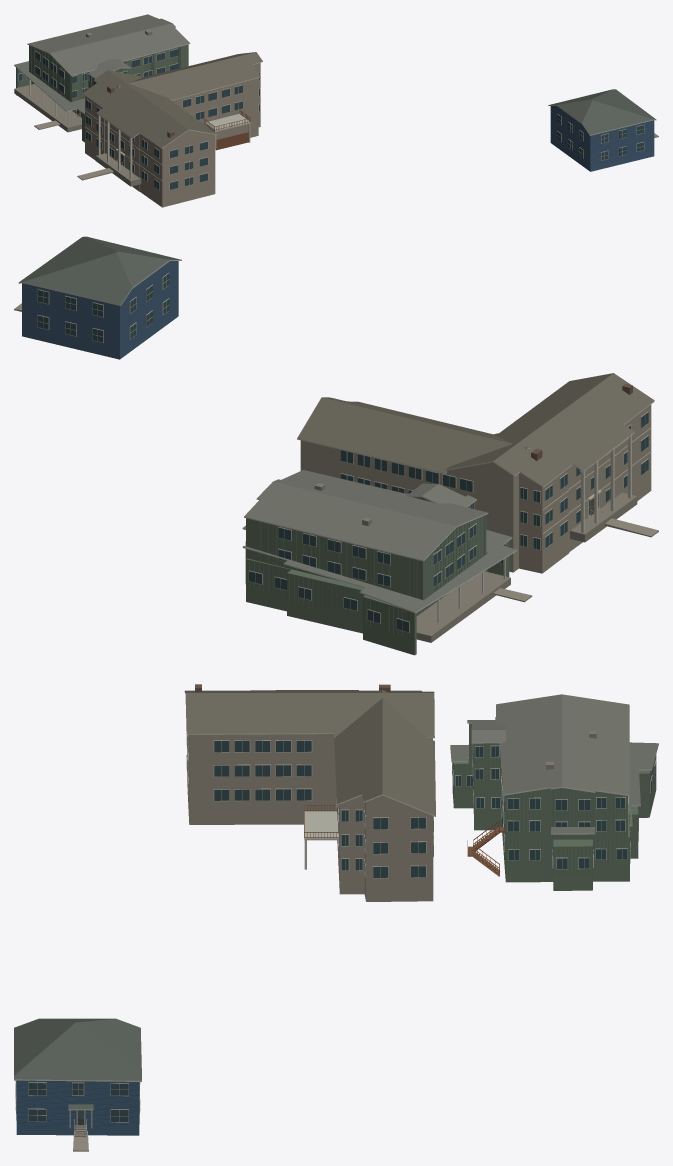
Rendered from site.glb.
The picture shows the model from 3 angles, top to bottom: view 1: azimuth 30°, elevation 25°; view 2: azimuth 150°, elevation 25°; view 3: azimuth 270°, elevation 25°; orthographic projection. The views are drawn at different scales.
Visible parts, largest first — view 1: roof-b048deca, roof-82ccbe9b, roof-e0385ede, south-university-entry-walks; view 2: roof-b048deca, roof-82ccbe9b, roof-e0385ede, south-university-entry-walks; view 3: roof-b048deca, roof-82ccbe9b, roof-e0385ede.
Part boxes in pixels (box(x1,y1,x2,y2)): roof-b048deca: box(82, 52, 262, 207); roof-82ccbe9b: box(14, 14, 190, 142); roof-e0385ede: box(548, 89, 656, 171); south-university-entry-walks: box(14, 84, 658, 186); roof-b048deca: box(297, 373, 654, 573); roof-82ccbe9b: box(242, 470, 517, 655); roof-e0385ede: box(18, 236, 181, 359); south-university-entry-walks: box(14, 303, 658, 642); roof-b048deca: box(184, 684, 435, 901); roof-82ccbe9b: box(450, 694, 658, 890); roof-e0385ede: box(14, 1018, 141, 1135).
Bounding box in the file's own units: 102 × 16.92 × 74.
